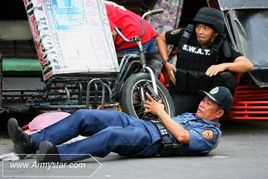falling: (0, 85, 236, 165)
